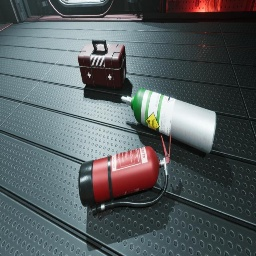0: (121, 89, 216, 154)
FireExtinguisher ]: (78, 134, 171, 216)
FirstAidBox ,: (78, 39, 127, 88)
